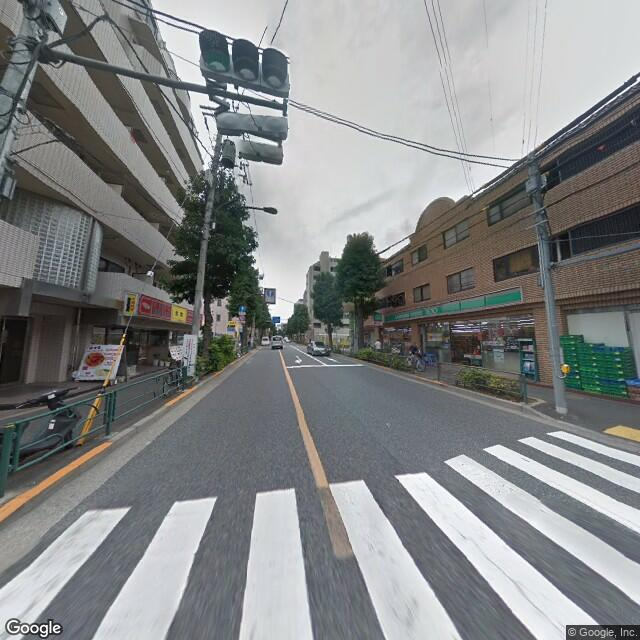lawson: (383, 283, 525, 329)
